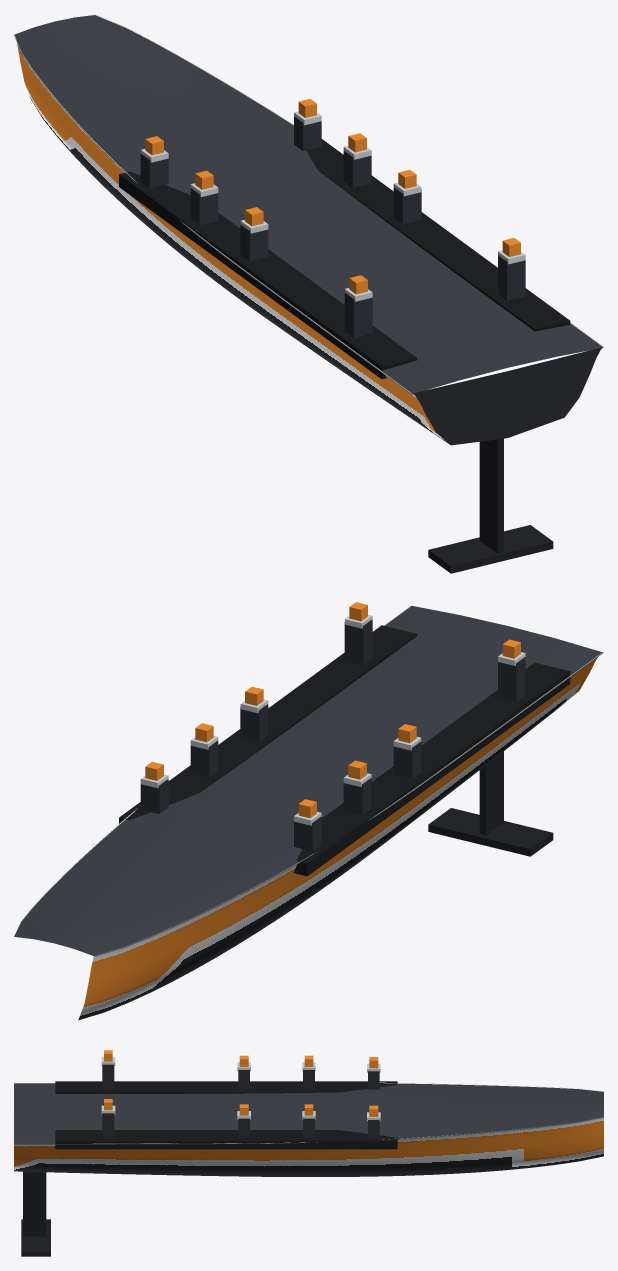
File: hull_5.glb
3 views of the same model, one above another, from view 1: azimuth 30°, elevation 25°; view 2: azimuth 150°, elevation 25°; view 3: azimuth 270°, elevation 25° (orthographic). The views are drawn at different scales.
Parts seen in each view (by area): view 1: hull_5_body; view 2: hull_5_body; view 3: hull_5_body.
Part boxes in pixels (box(x1,y1,x2,y2)): hull_5_body: box(14, 14, 603, 573); hull_5_body: box(14, 602, 603, 1020); hull_5_body: box(14, 1050, 603, 1256).
Size of the model in its own units: 4.9 by 6.13 by 20.
Materials: 1 (1 with a texture image).
